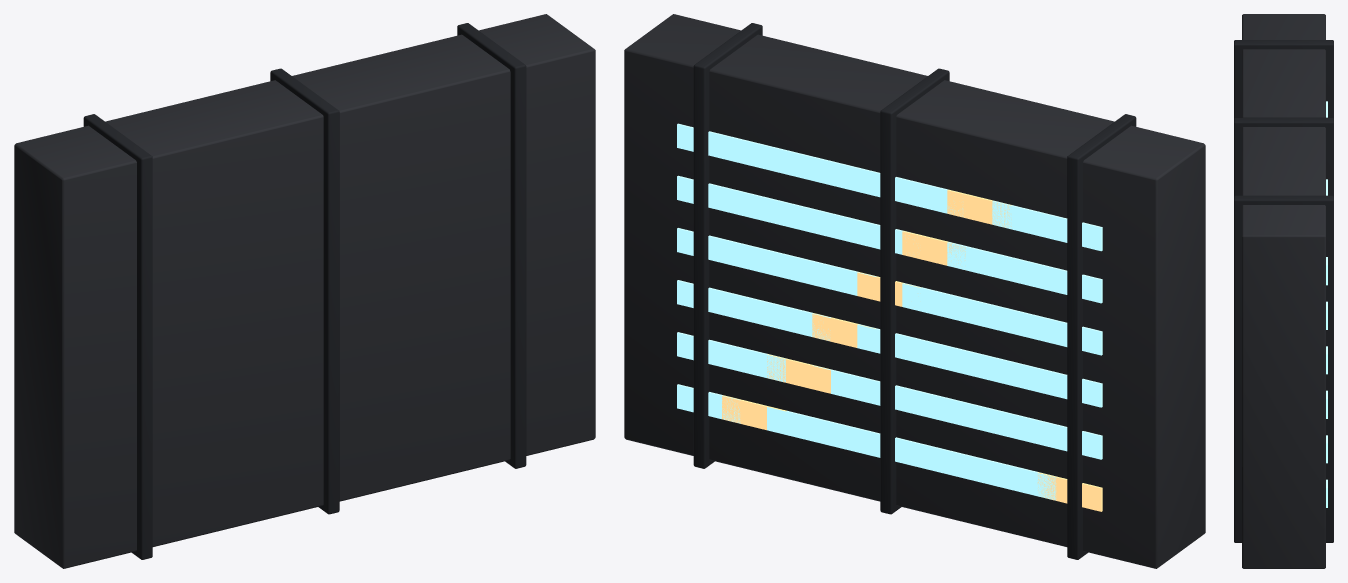
The model's file is data_center_wall.glb.
The picture shows the model from 3 angles, left to right: view 1: azimuth 30°, elevation 25°; view 2: azimuth 150°, elevation 25°; view 3: azimuth 270°, elevation 25°; orthographic projection. The views are drawn at different scales.
Visible parts, largest first — view 1: Wall, WallRib1, WallRib2, WallRib0; view 2: Wall, WallRib2, WallRib1, WallRib0, WallW4_6, WallW0_6, WallW1_7, WallW1_2, WallW0_1, WallW3_2, WallW4_1, WallW5_6 (+44 smaller); view 3: Wall, WallRib2, WallRib1, WallRib0.
Boxes of the visible parts, left/top/right/bottom form: Wall: left=14, top=14, right=595, bottom=568; WallRib1: left=270, top=68, right=339, bottom=514; WallRib2: left=457, top=23, right=526, bottom=468; WallRib0: left=83, top=114, right=152, bottom=559; Wall: left=624, top=14, right=1205, bottom=568; WallRib2: left=693, top=23, right=762, bottom=468; WallRib1: left=880, top=68, right=949, bottom=514; WallRib0: left=1067, top=114, right=1136, bottom=559; WallW4_6: left=767, top=197, right=830, bottom=237; WallW0_6: left=767, top=407, right=831, bottom=445; WallW1_7: left=722, top=344, right=786, bottom=382; WallW1_2: left=947, top=399, right=1011, bottom=436; WallW0_1: left=992, top=462, right=1056, bottom=500; WallW3_2: left=947, top=294, right=1011, bottom=333; WallW4_1: left=992, top=253, right=1057, bottom=291; WallW5_6: left=767, top=146, right=830, bottom=185; Wall: left=1242, top=14, right=1325, bottom=568; WallRib2: left=1234, top=195, right=1333, bottom=542; WallRib1: left=1234, top=117, right=1333, bottom=196; WallRib0: left=1234, top=40, right=1333, bottom=118.
Bounding box in the file's own units: 10 × 7.2 × 1.9.
